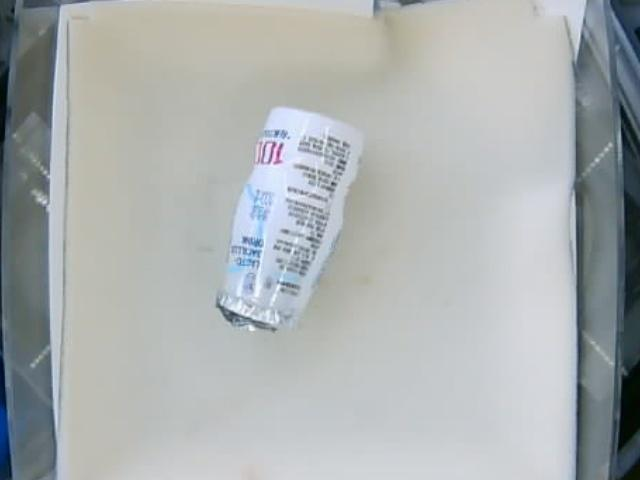Bottle: (215, 107, 362, 334)
